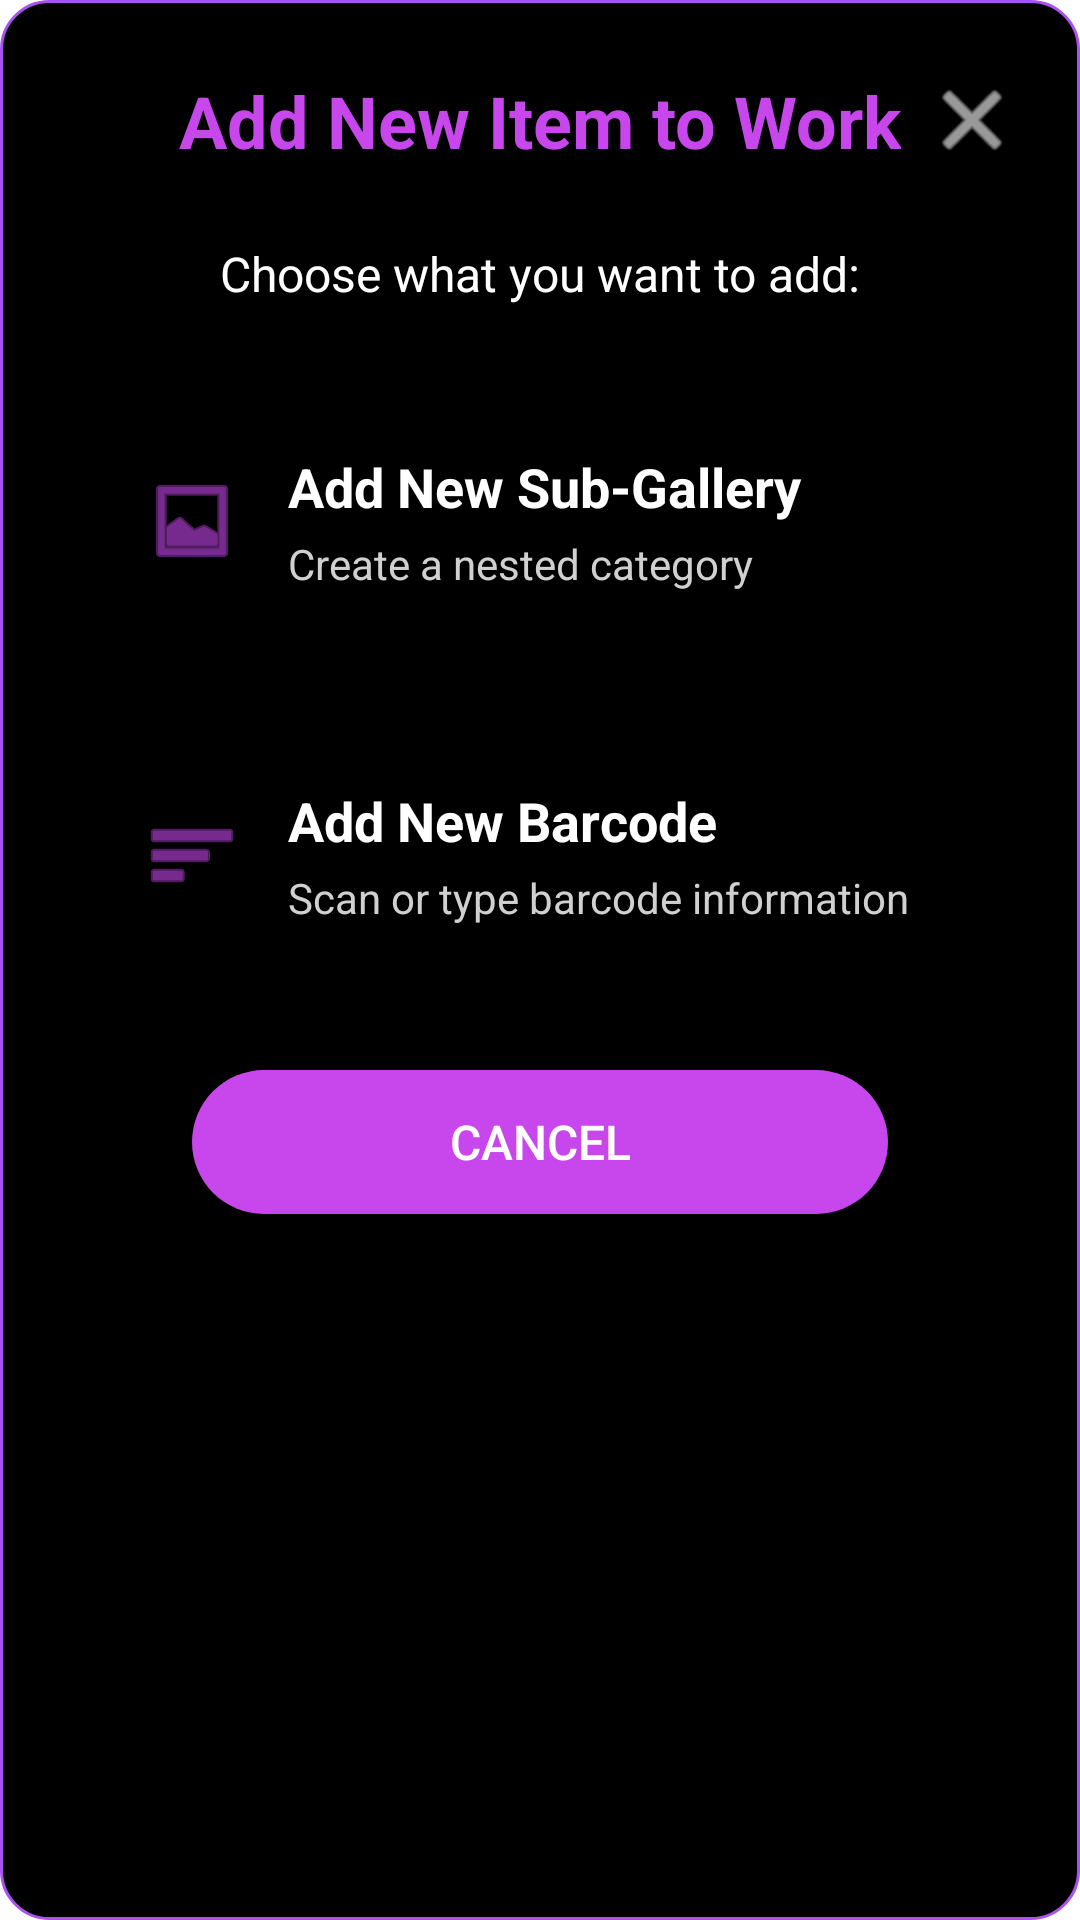

Screen size 1080w x 1920h. Icon name, then its center in pixels as (x=x, y=y):
Close dialog: (x=972, y=120)
sort by size: (x=192, y=855)
